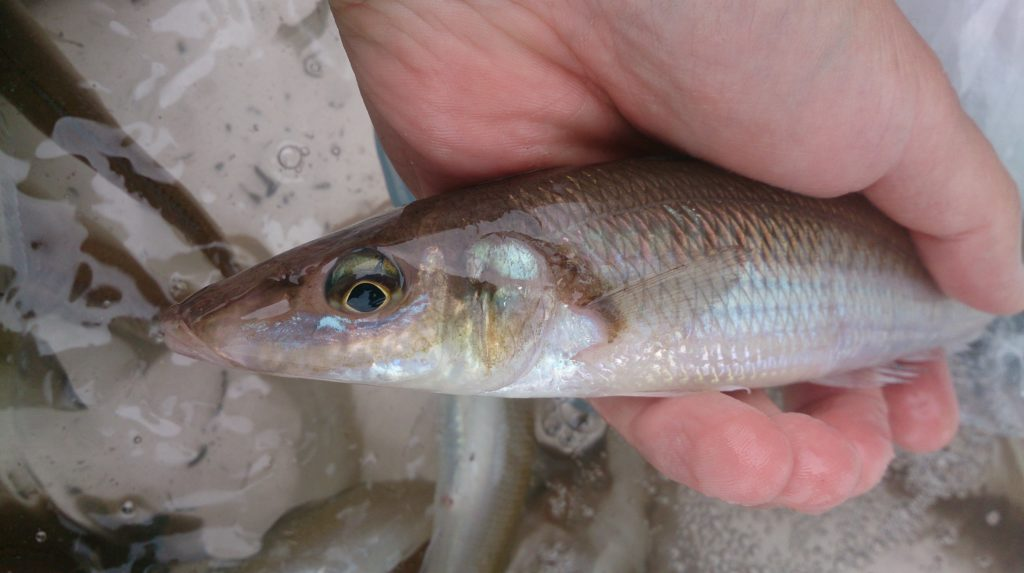kiss: (152, 156, 984, 407)
